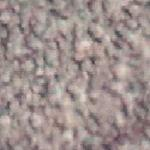alive: (5, 15, 135, 134)
